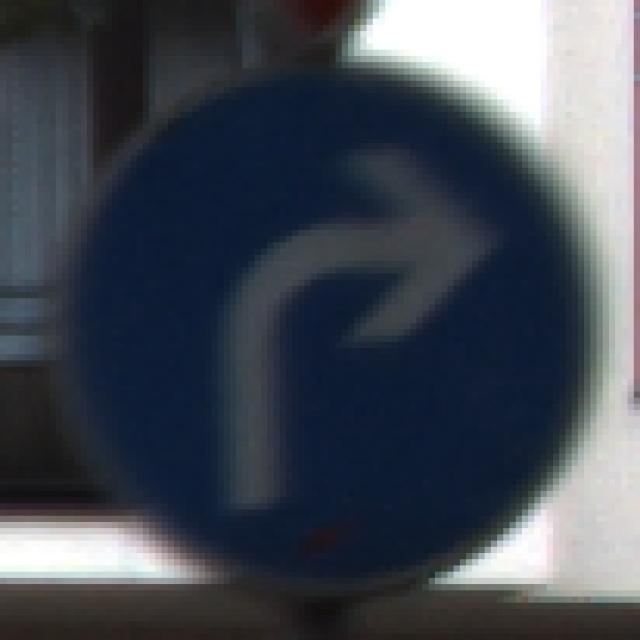compulsary turn right ahead: (51, 72, 597, 595)
